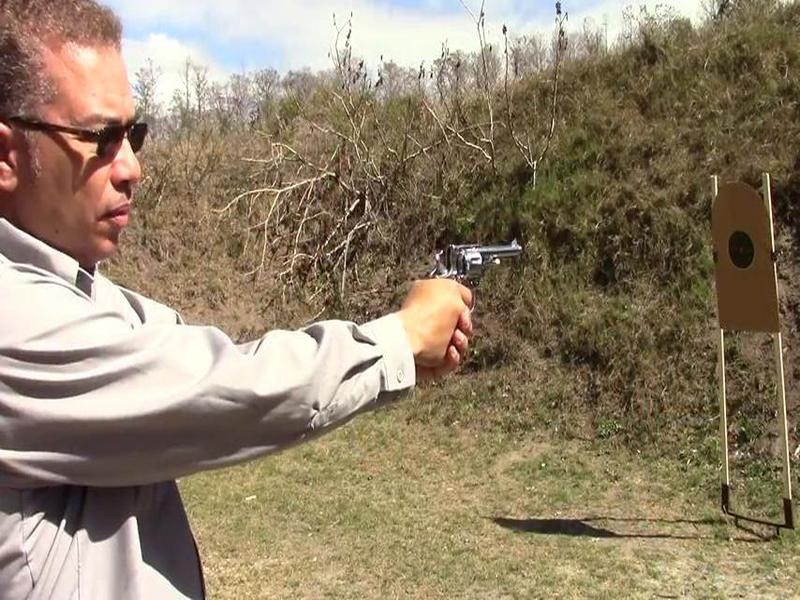Revolver: (417, 230, 547, 330)
